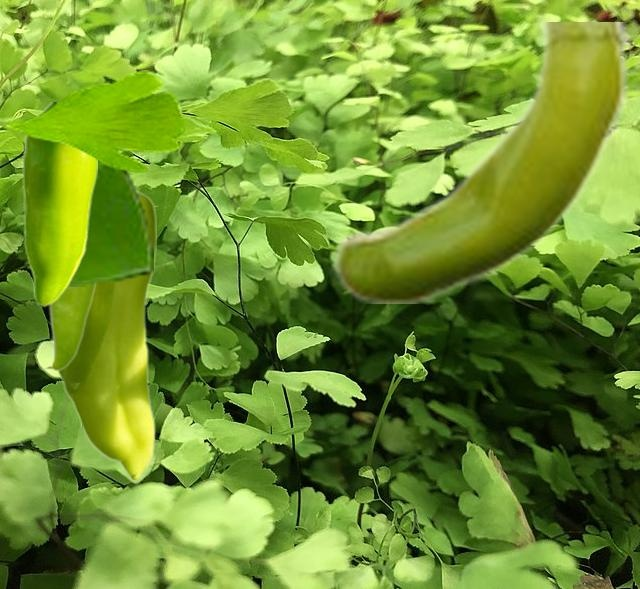green_chili: (330, 22, 632, 302), (45, 189, 155, 479), (22, 102, 96, 306), (40, 286, 97, 371)
